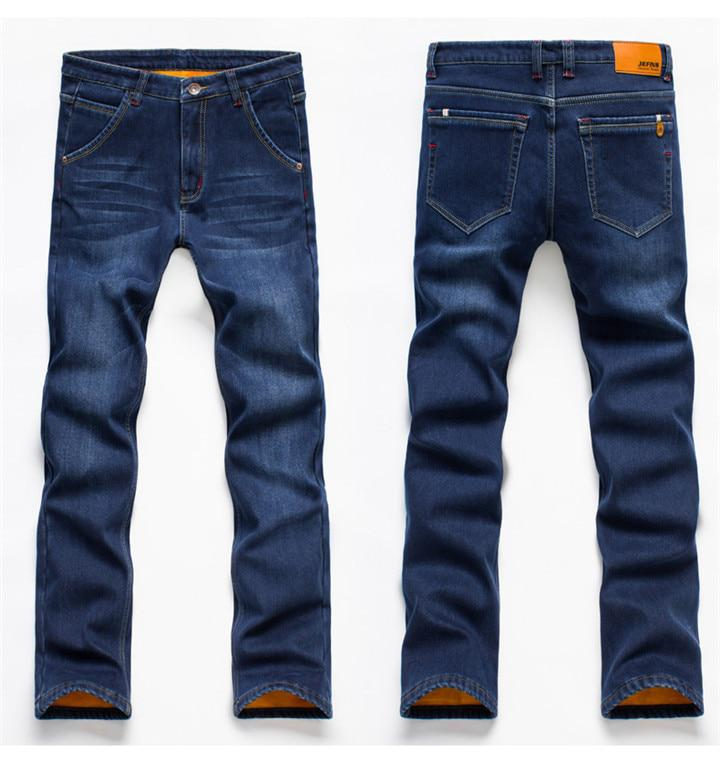jeans: (366, 24, 717, 728), (19, 42, 341, 705)
